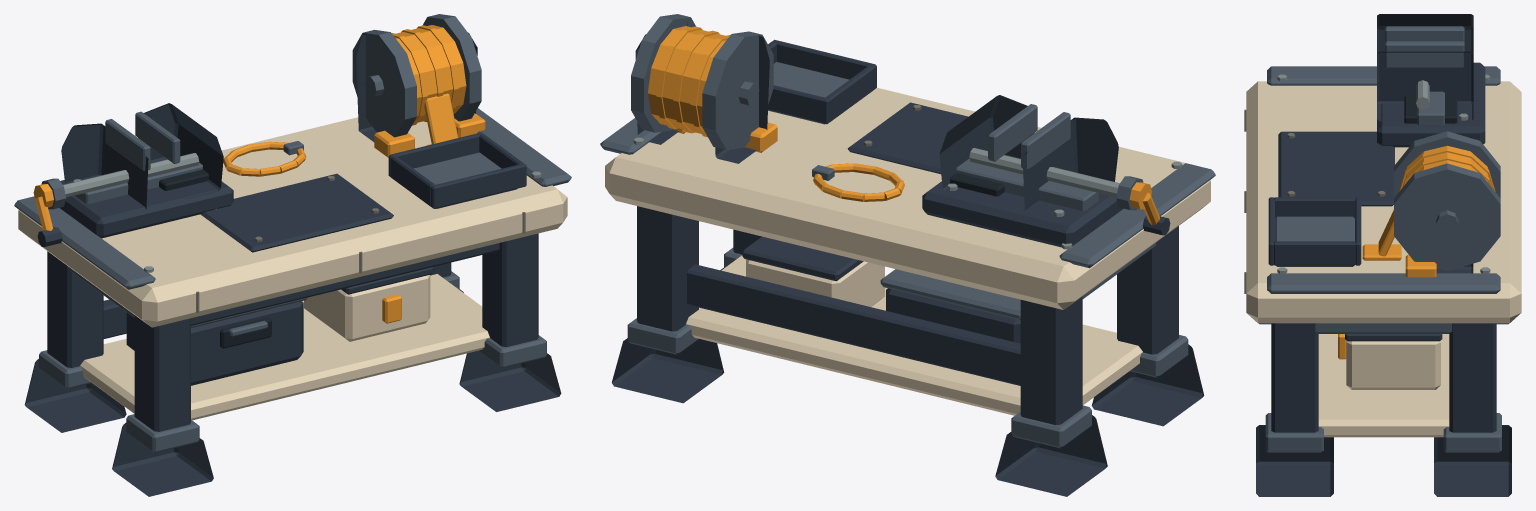
3 renders of one model, left to right at view 1: azimuth 30°, elevation 25°; view 2: azimuth 150°, elevation 25°; view 3: azimuth 270°, elevation 25°, orthographic. The views are drawn at different scales.
Visible parts, largest first — view 1: SalvageBenchStructure, SalvageViseJaw; view 2: SalvageBenchStructure, SalvageViseJaw; view 3: SalvageBenchStructure, SalvageViseJaw.
Boxes of the visible parts, box(x1,y1,x2,y2) form: SalvageBenchStructure: box(14, 14, 571, 496); SalvageViseJaw: box(135, 103, 223, 199); SalvageBenchStructure: box(600, 14, 1215, 496); SalvageViseJaw: box(939, 95, 1037, 196); SalvageBenchStructure: box(1244, 14, 1521, 496); SalvageViseJaw: box(1377, 41, 1473, 123).
Size of the model in its own units: 1.97 by 1.28 by 0.9965.
Materials: 1 (1 with a texture image).
